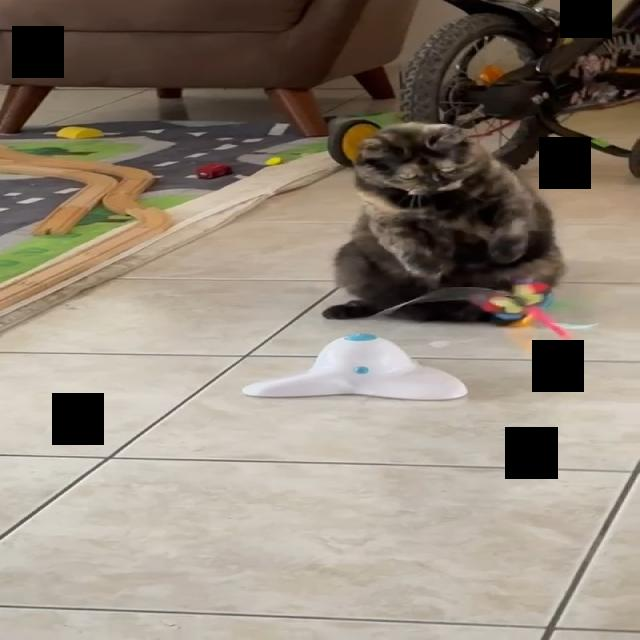authorized: (320, 120, 565, 324)
